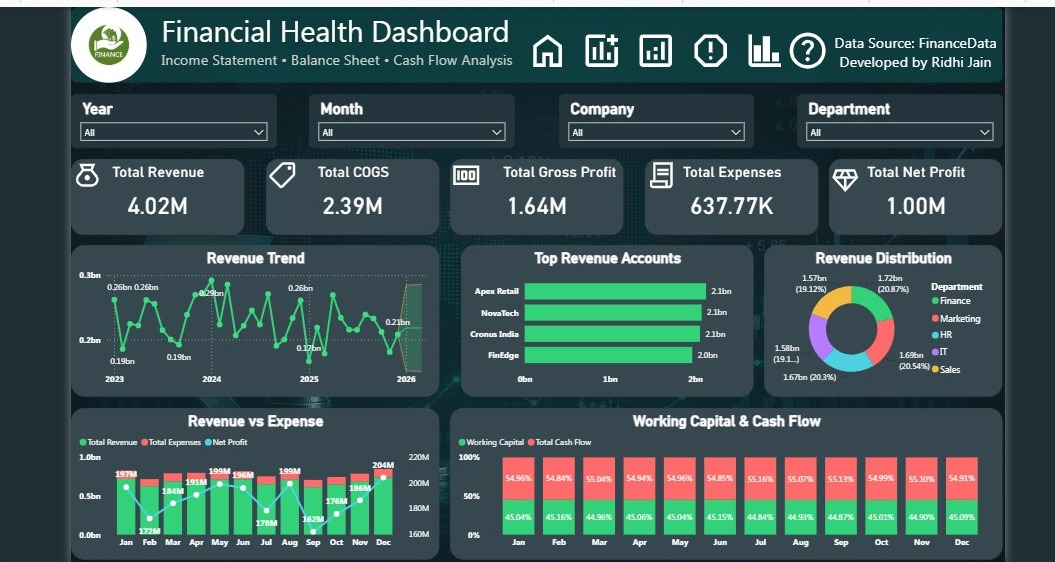

The page's visual inventory and layout, read from the dashboard file:
{"tool":"powerbi","page":{"name":"Page 1","canvas":[1380,820],"ordinal":0},"visuals":[{"type":"shape","box":[0,0,1376,112],"z":0},{"type":"image","box":[0,0,112,112],"z":1000},{"type":"textbox","box":[128,0,1248,112],"z":2000},{"type":"image","box":[672,32,64,64],"z":3000},{"type":"image","box":[752,32,64,64],"z":4000},{"type":"image","box":[832,32,64,64],"z":5000},{"type":"image","box":[912,32,64,64],"z":6000},{"type":"image","box":[992,32,64,64],"z":7000},{"type":"image","box":[1056,32,64,64],"z":8000},{"type":"slicer","fields":{"Values":["FinanceData.Year"]},"box":[0,128,304,80],"z":9000},{"type":"slicer","fields":{"Values":["FinanceData.Month"]},"box":[352,128,304,80],"z":10000},{"type":"slicer","fields":{"Values":["FinanceData.Company"]},"box":[720,128,288,80],"z":11000},{"type":"slicer","fields":{"Values":["FinanceData.Department"]},"box":[1072,128,304,80],"z":12000},{"type":"kpi","title":"Total Revenue","fields":{"Indicator":["FinanceData.Total Revenue"],"TrendLine":["FinanceData.Date"]},"box":[0,224,256,112],"z":13000},{"type":"image","box":[0,224,48,48],"z":14000},{"type":"kpi","title":"Total Net Profit","fields":{"TrendLine":["FinanceData.Date"],"Indicator":["Sum(FinanceData.NetProfit)"]},"box":[1120,224,256,112],"z":15000},{"type":"kpi","title":"Total Expenses","fields":{"TrendLine":["FinanceData.Date"],"Indicator":["FinanceData.Total Expenses"]},"box":[848,224,256,112],"z":16000},{"type":"kpi","title":"Total Gross Profit","fields":{"TrendLine":["FinanceData.Date"],"Indicator":["Sum(FinanceData.GrossProfit)"]},"box":[560,224,256,112],"z":17000},{"type":"kpi","title":"Total COGS","fields":{"TrendLine":["FinanceData.Date"],"Indicator":["FinanceData.Total COGS"]},"box":[288,224,256,112],"z":18000},{"type":"image","box":[288,224,48,48],"z":19000},{"type":"image","box":[560,224,48,48],"z":20000},{"type":"image","box":[848,224,48,48],"z":21000},{"type":"image","box":[1120,224,48,64],"z":22000},{"type":"lineChart","title":"Revenue Trend","fields":{"Category":["FinanceData.Date.Variation.Date Hierarchy.Year","FinanceData.Date.Variation.Date Hierarchy.Month"],"Y":["FinanceData.Total Revenue"]},"box":[0,352,544,224],"z":23000},{"type":"lineStackedColumnComboChart","title":"Revenue vs Expense","fields":{"Category":["FinanceData.Month"],"Y":["FinanceData.Total Revenue","FinanceData.Total Expenses"],"Y2":["FinanceData.Net Profit"]},"box":[0,592,544,224],"z":24000},{"type":"clusteredBarChart","title":"Top Revenue Accounts","fields":{"Y":["FinanceData.Total Revenue"],"Category":["FinanceData.Company"]},"box":[576,352,432,224],"z":25000},{"type":"donutChart","title":"Revenue Distribution","fields":{"Y":["FinanceData.Total Revenue"],"Category":["FinanceData.Department"]},"box":[1024,352,352,224],"z":26000},{"type":"hundredPercentStackedColumnChart","title":"Working Capital & Cash Flow","fields":{"Category":["FinanceData.Month"],"Y":["FinanceData.Working Capital","FinanceData.Total Cash Flow"]},"box":[560,592,816,224],"z":27000},{"type":"textbox","box":[1120,32,256,80],"z":28000}]}

Visuals, with their boxes on the page's 1380x820 design canvas (x1, y1, x2, y2). These are canvas units, not pixel positions in the 1055x562 screenshot, which may show the page scaled, cropped or inside an application window:
shape: l=0, t=0, r=1376, b=112
image: l=0, t=0, r=112, b=112
textbox: l=128, t=0, r=1376, b=112
image: l=672, t=32, r=736, b=96
image: l=752, t=32, r=816, b=96
image: l=832, t=32, r=896, b=96
image: l=912, t=32, r=976, b=96
image: l=992, t=32, r=1056, b=96
image: l=1056, t=32, r=1120, b=96
slicer - FinanceData.Year: l=0, t=128, r=304, b=208
slicer - FinanceData.Month: l=352, t=128, r=656, b=208
slicer - FinanceData.Company: l=720, t=128, r=1008, b=208
slicer - FinanceData.Department: l=1072, t=128, r=1376, b=208
"Total Revenue" kpi: l=0, t=224, r=256, b=336
image: l=0, t=224, r=48, b=272
"Total Net Profit" kpi: l=1120, t=224, r=1376, b=336
"Total Expenses" kpi: l=848, t=224, r=1104, b=336
"Total Gross Profit" kpi: l=560, t=224, r=816, b=336
"Total COGS" kpi: l=288, t=224, r=544, b=336
image: l=288, t=224, r=336, b=272
image: l=560, t=224, r=608, b=272
image: l=848, t=224, r=896, b=272
image: l=1120, t=224, r=1168, b=288
"Revenue Trend" lineChart: l=0, t=352, r=544, b=576
"Revenue vs Expense" lineStackedColumnComboChart: l=0, t=592, r=544, b=816
"Top Revenue Accounts" clusteredBarChart: l=576, t=352, r=1008, b=576
"Revenue Distribution" donutChart: l=1024, t=352, r=1376, b=576
"Working Capital & Cash Flow" hundredPercentStackedColumnChart: l=560, t=592, r=1376, b=816
textbox: l=1120, t=32, r=1376, b=112
